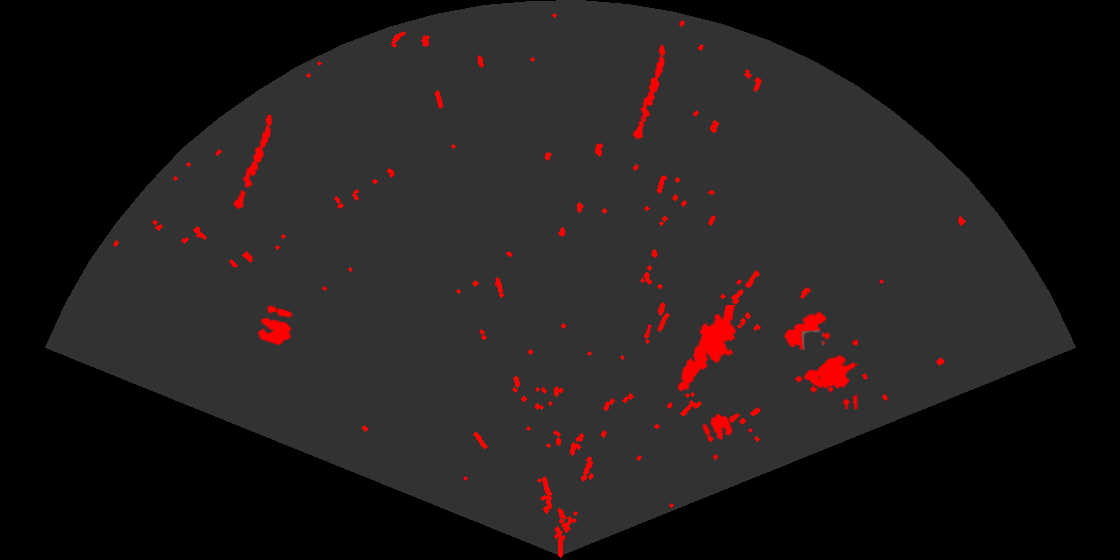ball: (256, 304, 294, 347), (701, 412, 734, 444)
cage: (783, 310, 858, 409)
chain: (232, 113, 274, 212), (631, 43, 667, 142)
frogman: (676, 305, 738, 393)
